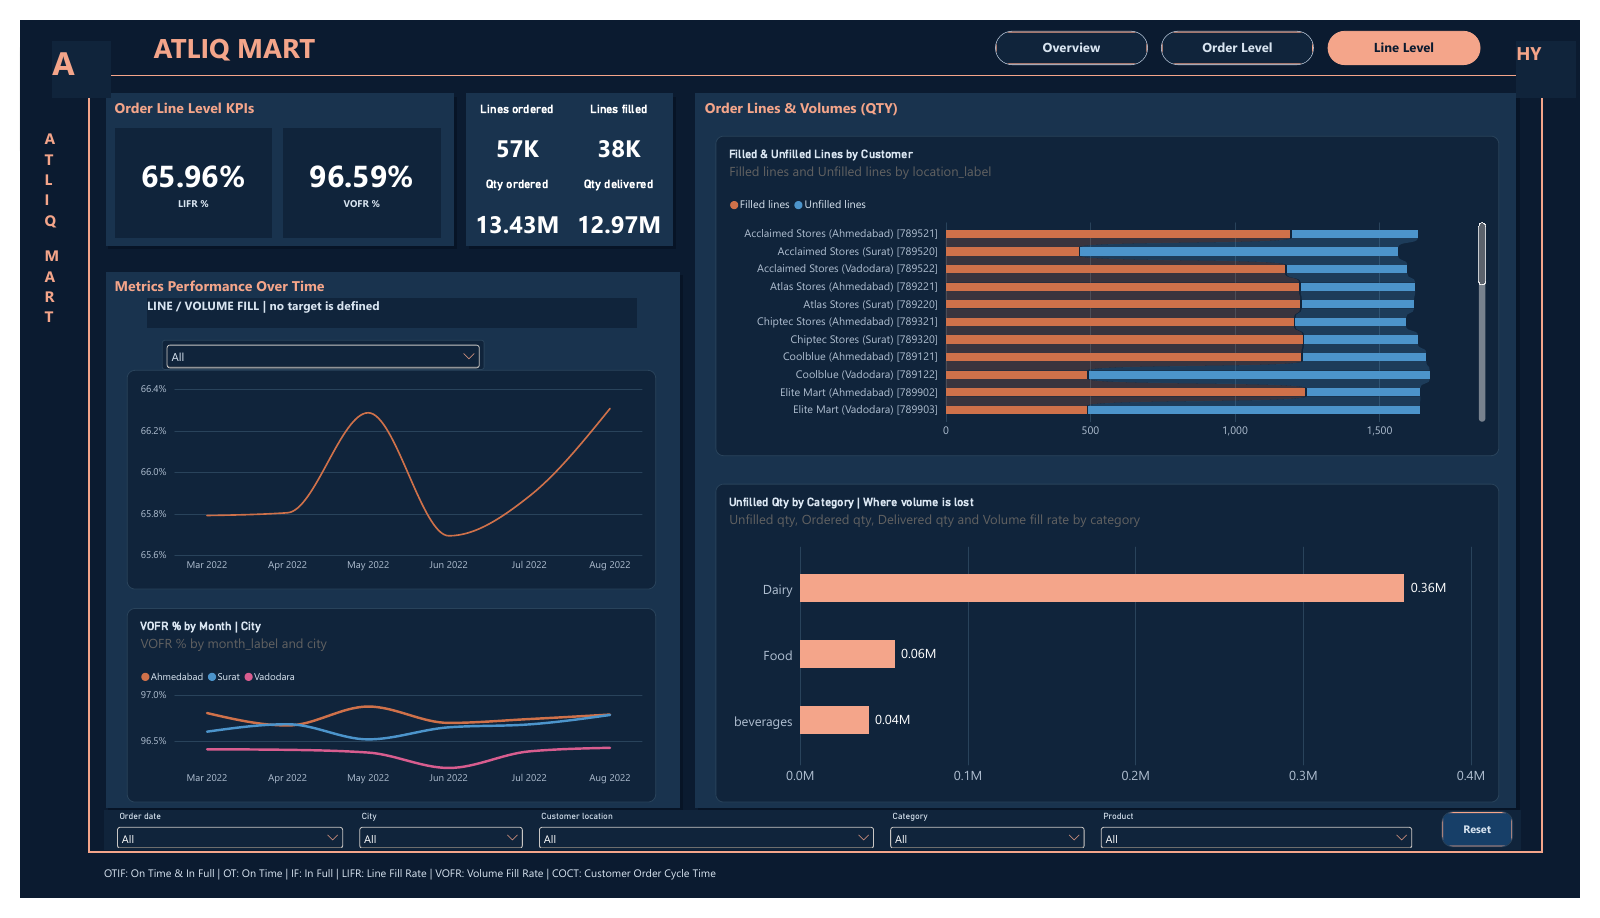

This screenshot's page, from the dashboard's own definition file:
{"tool":"powerbi","page":{"name":"Line Level","canvas":[1920,1080],"ordinal":2},"visuals":[{"type":"shape","box":[109.4,313.7,706.6,659.9],"z":0},{"type":"shape","box":[109.4,94.5,428.2,187.9],"z":1000},{"type":"shape","box":[553,94.5,255.4,187.9],"z":2000},{"type":"shape","box":[835.2,94.5,1009.9,879.1],"z":3000},{"type":"shape","box":[105.6,310,706.6,659.9],"z":4000},{"type":"shape","box":[105.6,90.7,428.2,187.9],"z":5000},{"type":"shape","box":[549.1,90.7,255.4,187.9],"z":6000},{"type":"shape","box":[831.4,90.7,1009.9,879.1],"z":7000},{"type":"shape","box":[84.5,68,1789.4,2.4],"z":8000},{"type":"shape","box":[84.5,1022.5,1789.4,2.4],"z":9000},{"type":"shape","box":[84.5,68,2.5,956.9],"z":10000},{"type":"shape","box":[1871.4,68,2.5,956.9],"z":11000},{"type":"shape","box":[103.7,972,1743.4,48.6],"z":12000},{"type":"card","fields":{"Values":["fact_order_lines.LIFR %"]},"box":[117.1,133.9,193.9,135],"z":13000},{"type":"card","fields":{"Values":["fact_order_lines.VOFR %"]},"box":[324.5,133.9,193.9,135],"z":14000},{"type":"card","title":"Qty delivered","fields":{"Values":["fact_order_lines.Delivered Qty"]},"box":[677.8,195.5,119,82.1],"z":15000},{"type":"card","title":"Lines filled","fields":{"Values":["fact_order_lines.Order Lines In Full"]},"box":[677.8,101.5,119,82.1],"z":16000},{"type":"card","title":"Lines ordered","fields":{"Values":["fact_order_lines.Total Order Lines"]},"box":[553,101.5,119,82.1],"z":17000},{"type":"card","title":"Qty ordered","fields":{"Values":["fact_order_lines.Ordered Qty"]},"box":[553,195.5,119,82.1],"z":18000},{"type":"lineChart","fields":{"Category":["dim_date.month_label"],"Y":["Product Metric Selector.Product Selected Rate"]},"box":[132.5,430.9,650.9,270],"z":19000},{"type":"lineChart","title":"VOFR % by Month | City","fields":{"Category":["dim_date.month_label"],"Series":["dim_customers.city"],"Y":["fact_order_lines.VOFR %"]},"box":[132.5,723.6,650.9,239.8],"z":20000},{"type":"barChart","title":"Filled & Unfilled Lines by Customer","fields":{"Category":["dim_customers.location_label"],"Y":["fact_order_lines.Order Lines In Full","fact_order_lines.Unfilled Order Lines"]},"box":[856.3,142.6,963.8,394.2],"z":21000},{"type":"barChart","title":"Unfilled Qty by Category | Where volume is lost","fields":{"Category":["dim_products.category"],"Y":["fact_order_lines.Unfilled Qty (shortfall)"]},"box":[856.3,571.3,963.8,392],"z":22000},{"type":"textbox","box":[40.3,25.9,73,71.3],"z":23000},{"type":"textbox","box":[1841.3,25.9,73,70.2],"z":24000},{"type":"textbox","box":[117.1,97.2,405.1,29.2],"z":26000},{"type":"textbox","box":[157.4,342.4,602.9,37.8],"z":27000},{"type":"textbox","box":[117.1,315.4,675.8,27],"z":28000},{"type":"textbox","box":[842.9,97.2,986.9,29.2],"z":29000},{"type":"textbox","box":[103.7,1040,1724.2,25.9],"z":30000},{"type":"textbox","box":[165.1,11.9,307.2,51.8],"z":31000},{"type":"textbox","box":[30.7,133.9,46.1,321.8],"z":32000},{"type":"slicer","fields":{"Values":["Product Metric Selector.metric_label"]},"box":[174.7,394.2,397.4,36.7],"z":33000},{"type":"slicer","fields":{"Values":["dim_products.category"]},"box":[1065.6,974.2,249.6,44.3],"z":34000},{"type":"slicer","fields":{"Values":["dim_customers.city"]},"box":[412.8,974.2,211.2,44.3],"z":35000},{"type":"slicer","fields":{"Values":["dim_customers.location_label"]},"box":[633.6,974.2,422.4,44.3],"z":36000},{"type":"slicer","fields":{"Values":["dim_date.date"]},"box":[115.2,974.2,288,44.3],"z":37000},{"type":"slicer","fields":{"Values":["dim_products.product_name"]},"box":[1324.8,974.2,393.6,44.3],"z":38000},{"type":"actionButton","box":[1609,14,188.2,42.1],"z":39000},{"type":"actionButton","box":[1403.5,14,188.2,42.1],"z":40000},{"type":"actionButton","box":[1200,14,188.2,42.1],"z":41000},{"type":"actionButton","box":[1749.1,974.2,88.3,44.3],"z":42000}]}

Visuals, with their boxes in screenshot pixels (x1, y1, x2, y2), scaled from the page's 1920x1080 canvas onto the 1600x918 screenshot:
shape: [91, 267, 680, 828]
shape: [91, 80, 448, 240]
shape: [461, 80, 674, 240]
shape: [696, 80, 1538, 828]
shape: [88, 264, 677, 824]
shape: [88, 77, 445, 237]
shape: [458, 77, 670, 237]
shape: [693, 77, 1534, 824]
shape: [70, 58, 1562, 60]
shape: [70, 869, 1562, 871]
shape: [70, 58, 72, 871]
shape: [1560, 58, 1562, 871]
shape: [86, 826, 1539, 868]
card - fact_order_lines.LIFR %: [98, 114, 259, 229]
card - fact_order_lines.VOFR %: [270, 114, 432, 229]
"Qty delivered" card: [565, 166, 664, 236]
"Lines filled" card: [565, 86, 664, 156]
"Lines ordered" card: [461, 86, 560, 156]
"Qty ordered" card: [461, 166, 560, 236]
lineChart - dim_date.month_label x Product Metric Selector.Product Selected Rate: [110, 366, 653, 596]
"VOFR % by Month | City" lineChart: [110, 615, 653, 819]
"Filled & Unfilled Lines by Customer" barChart: [714, 121, 1517, 456]
"Unfilled Qty by Category | Where volume is lost" barChart: [714, 486, 1517, 819]
textbox: [34, 22, 94, 83]
textbox: [1534, 22, 1595, 82]
textbox: [98, 83, 435, 107]
textbox: [131, 291, 634, 323]
textbox: [98, 268, 661, 291]
textbox: [702, 83, 1525, 107]
textbox: [86, 884, 1523, 906]
textbox: [138, 10, 394, 54]
textbox: [26, 114, 64, 387]
slicer - Product Metric Selector.metric_label: [146, 335, 477, 366]
slicer - dim_products.category: [888, 828, 1096, 866]
slicer - dim_customers.city: [344, 828, 520, 866]
slicer - dim_customers.location_label: [528, 828, 880, 866]
slicer - dim_date.date: [96, 828, 336, 866]
slicer - dim_products.product_name: [1104, 828, 1432, 866]
actionButton: [1341, 12, 1498, 48]
actionButton: [1170, 12, 1326, 48]
actionButton: [1000, 12, 1157, 48]
actionButton: [1458, 828, 1531, 866]
